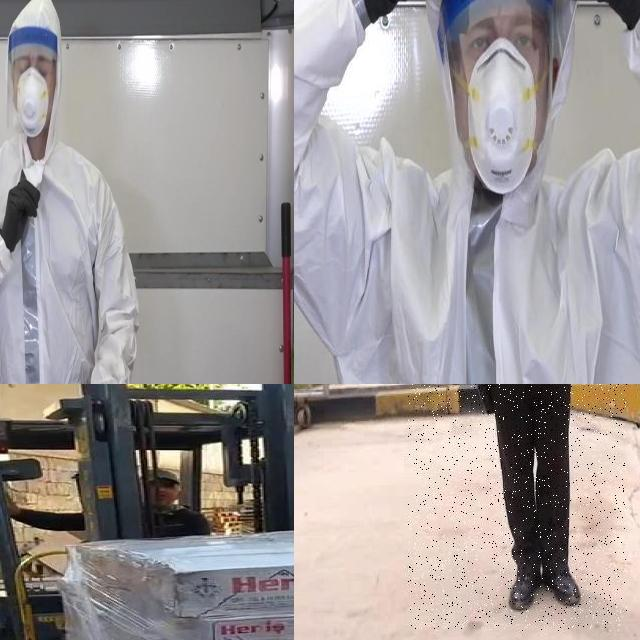BOOTS: (543, 562, 585, 609), (509, 562, 544, 616)
Glove: (516, 0, 640, 30), (1, 180, 41, 253)
MASK: (467, 38, 536, 196), (16, 70, 48, 140)
